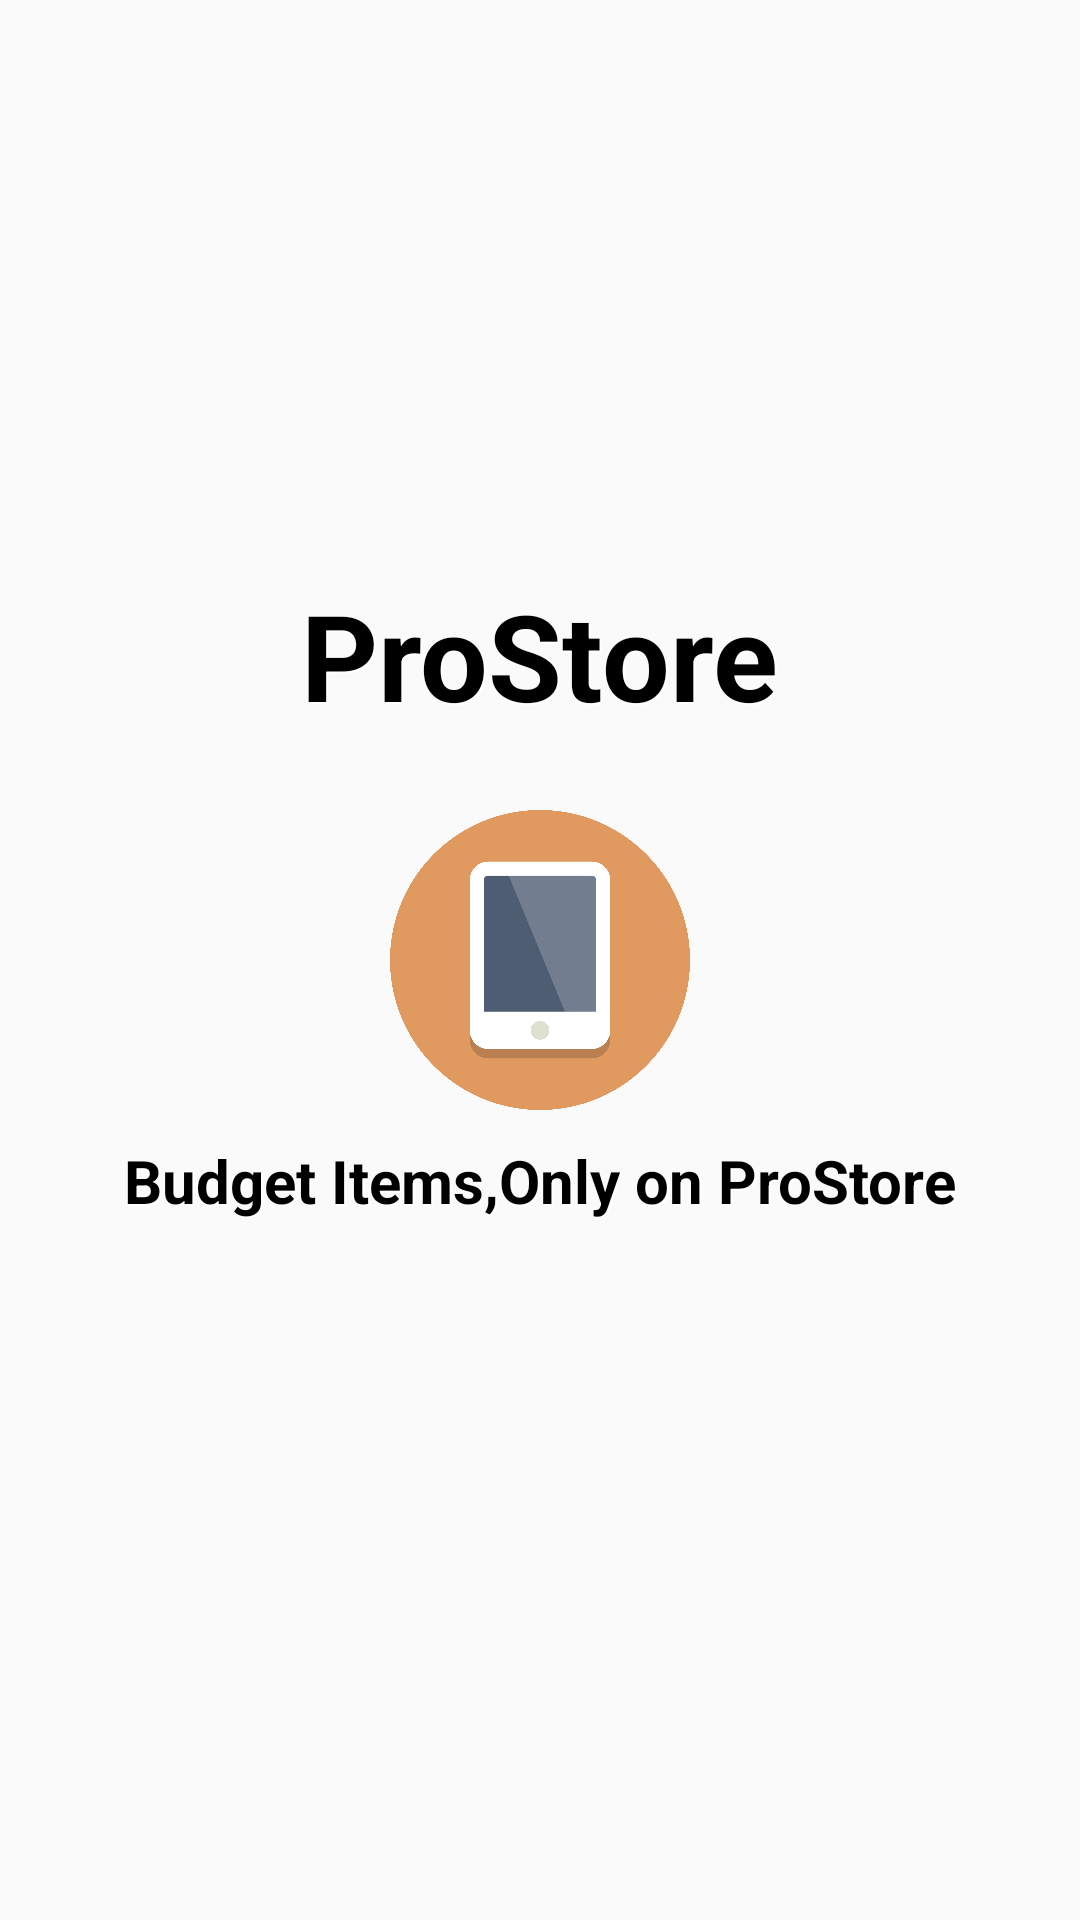

Icon click points for this 1080w x 1920h phone screenshot, format (x=x, y=y):
phone: (x=540, y=960)
